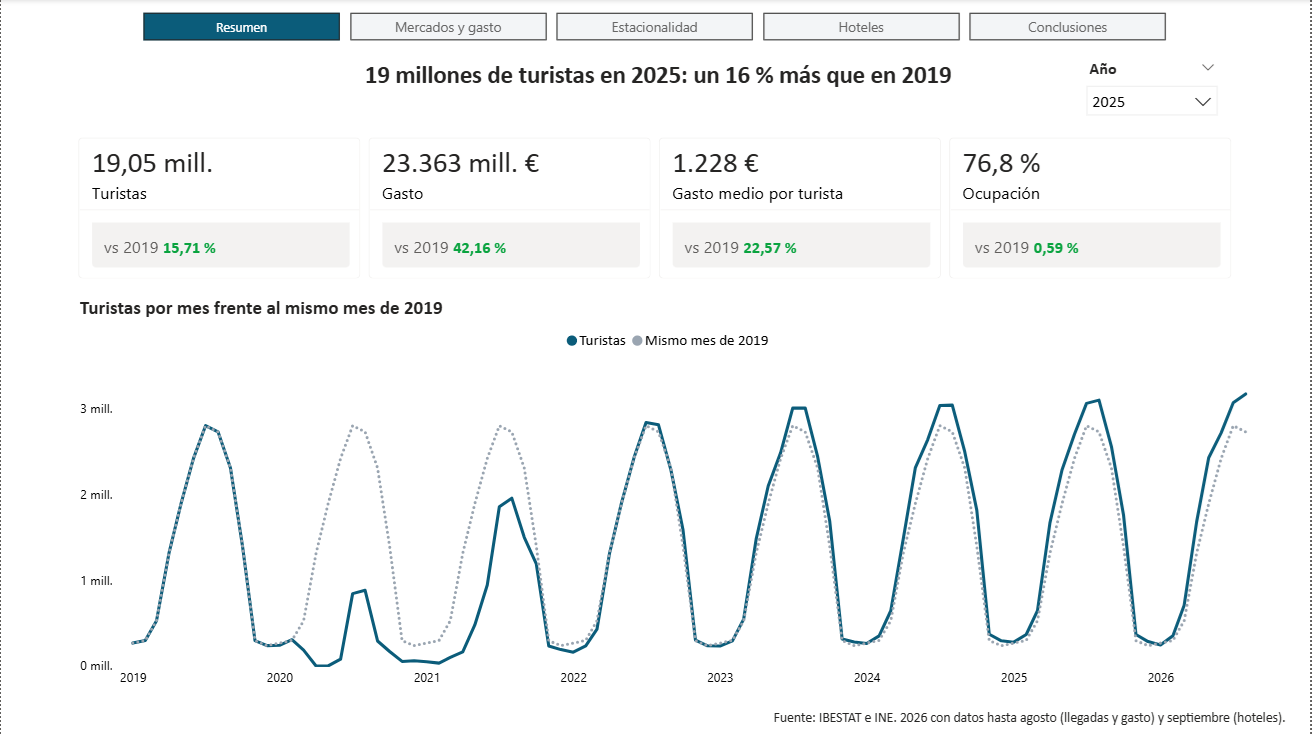

What the dashboard file says about the page in this screenshot:
{"tool":"powerbi","page":{"name":"Resumen","canvas":[1280,720],"ordinal":0},"visuals":[{"type":"textbox","box":[351.3,53.5,605.1,39.8],"z":0},{"type":"slicer","fields":{"Values":["DimFecha.Año"]},"box":[1051.1,53.5,148.2,64.5],"z":1000},{"type":"cardVisual","fields":{"Data":["Medidas.Turistas","Medidas.Gasto","Medidas.Gasto medio por turista","Medidas.Ocupación"]},"box":[59,118,1163.6,172.9],"z":2000},{"type":"lineChart","title":"Turistas por mes frente al mismo mes de 2019","fields":{"Y":["Medidas.Turistas","Medidas.Turistas 2019"],"Category":["DimFecha.Fecha"]},"box":[72.7,290.9,1163.6,391.1],"z":3000},{"type":"textbox","box":[750.2,688.8,530,30.7],"z":4000},{"type":"pageNavigator","box":[140,13,1000.3,27.4],"z":5000}]}

Visuals, with their boxes in screenshot pixels (x1, y1, x2, y2), scaled from the page's 1280x720 canvas onto the 1312x735 screenshot:
textbox: (left=360, top=55, right=980, bottom=95)
slicer - DimFecha.Año: (left=1077, top=55, right=1229, bottom=120)
cardVisual - Medidas.Turistas x Medidas.Gasto: (left=60, top=120, right=1253, bottom=297)
"Turistas por mes frente al mismo mes de 2019" lineChart: (left=75, top=297, right=1267, bottom=696)
textbox: (left=769, top=703, right=1311, bottom=734)
pageNavigator: (left=144, top=13, right=1169, bottom=41)
